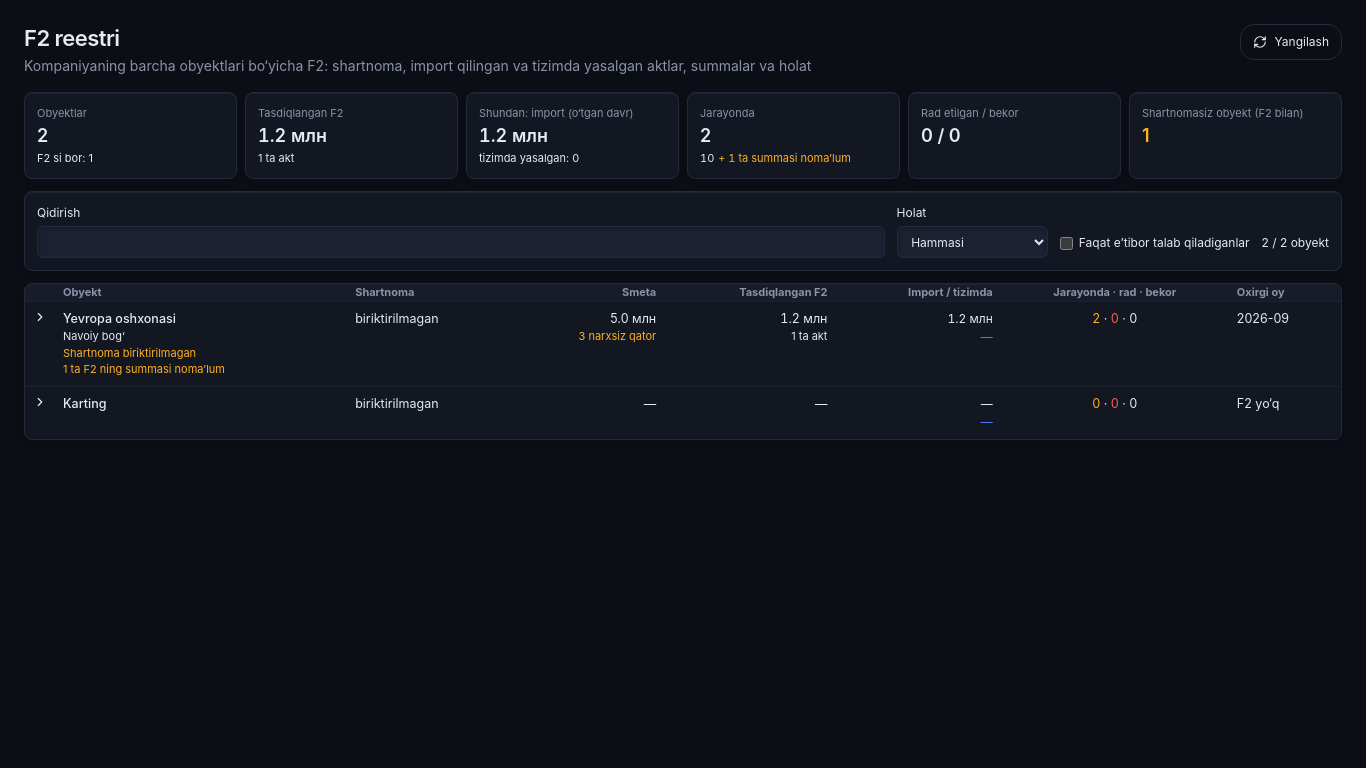
it: kompaniya F2 reestri: obyekt qatori, shartnomasiz ogohlantirish, ochilganda aktlar manbasi va aktsiz fayllar
The width and height of the screenshot is (1366, 768).
Expected: the text "Navoiy bog‘" is shown, [63,329,125,343]
Expected: the text "Shartnoma biriktirilmagan" is shown, [63,346,196,360]
Click the text "Yevropa oshxonasi" at (119,318), box [63,310,176,326]
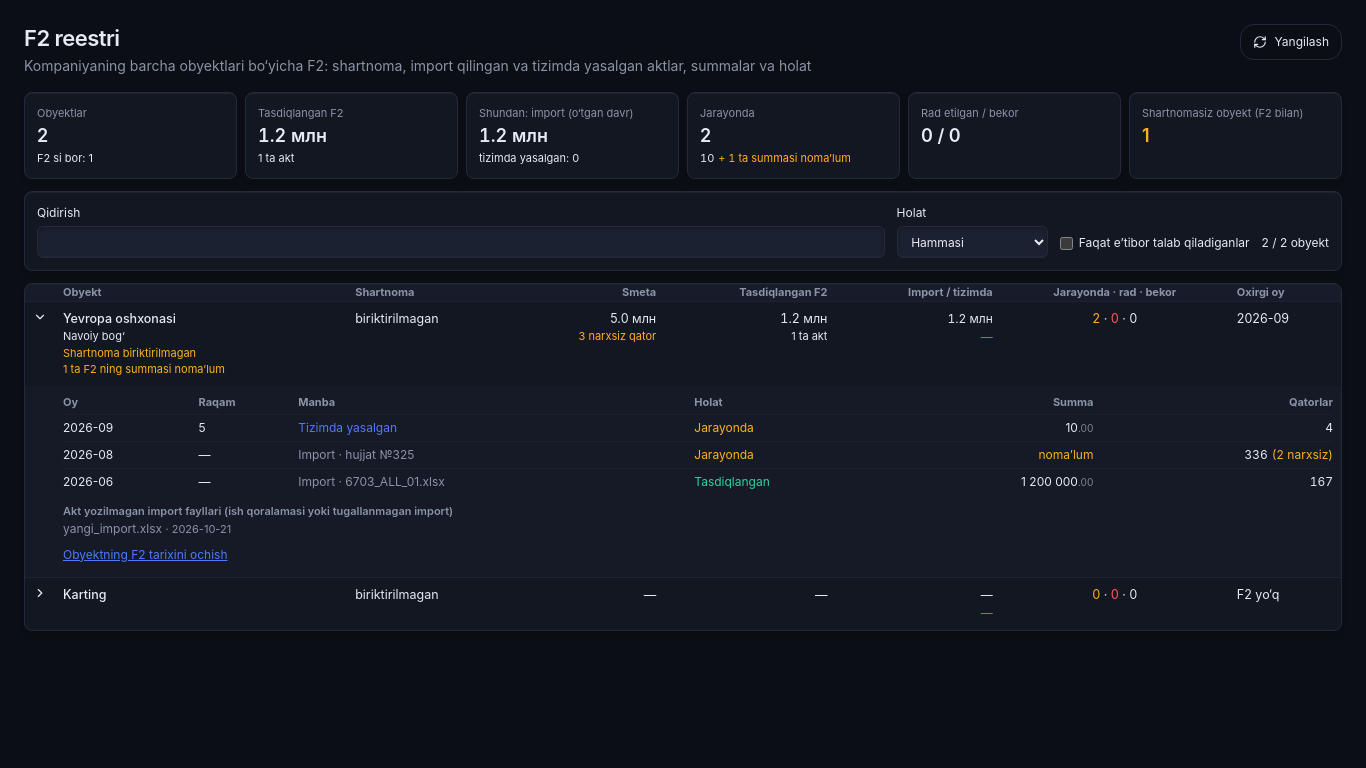
Expected: the text "Import · 6703_ALL_01.xlsx" is shown, [298,474,445,489]
Expected: the text "Import · hujjat №325" is shown, [298,447,414,462]
Expected: the text "Tizimda yasalgan" is shown, [298,420,397,435]
